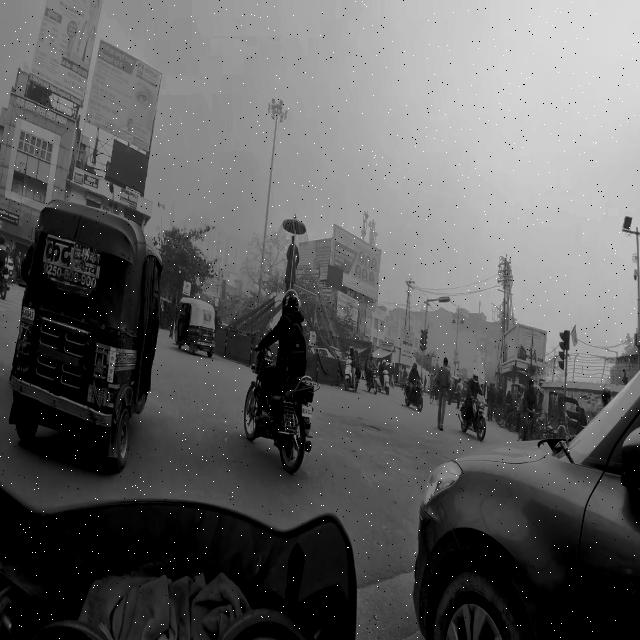Auto-Rickshaw: (14, 195, 164, 496), (170, 290, 223, 370)
Bike: (243, 292, 328, 490), (458, 368, 496, 447), (404, 361, 424, 412), (345, 348, 361, 392), (378, 360, 392, 396), (366, 353, 378, 394)
Car: (402, 339, 639, 640)
